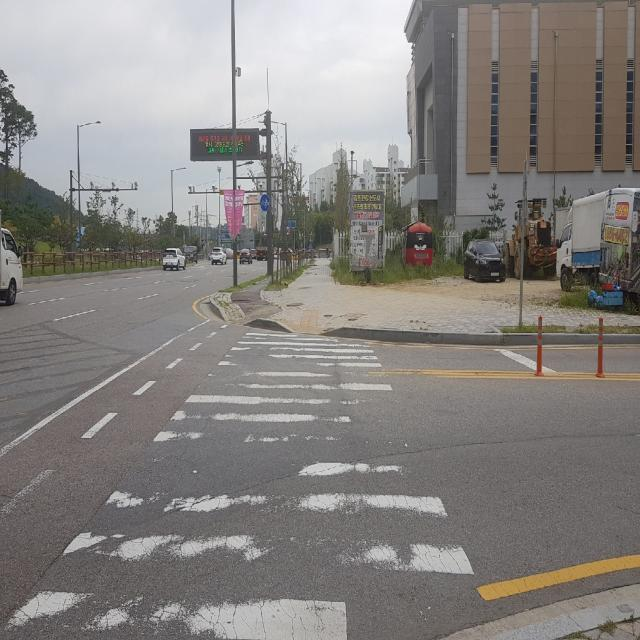횡단보도: (0, 324, 477, 640)
